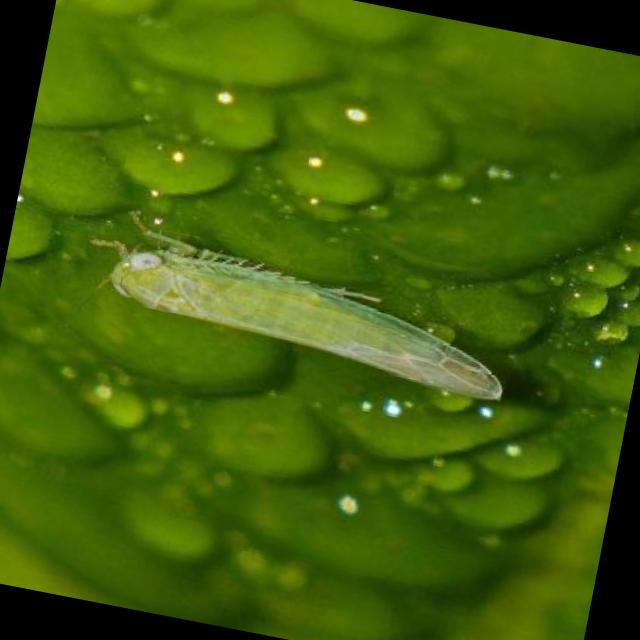green-leafhopper: (95, 220, 528, 408)
